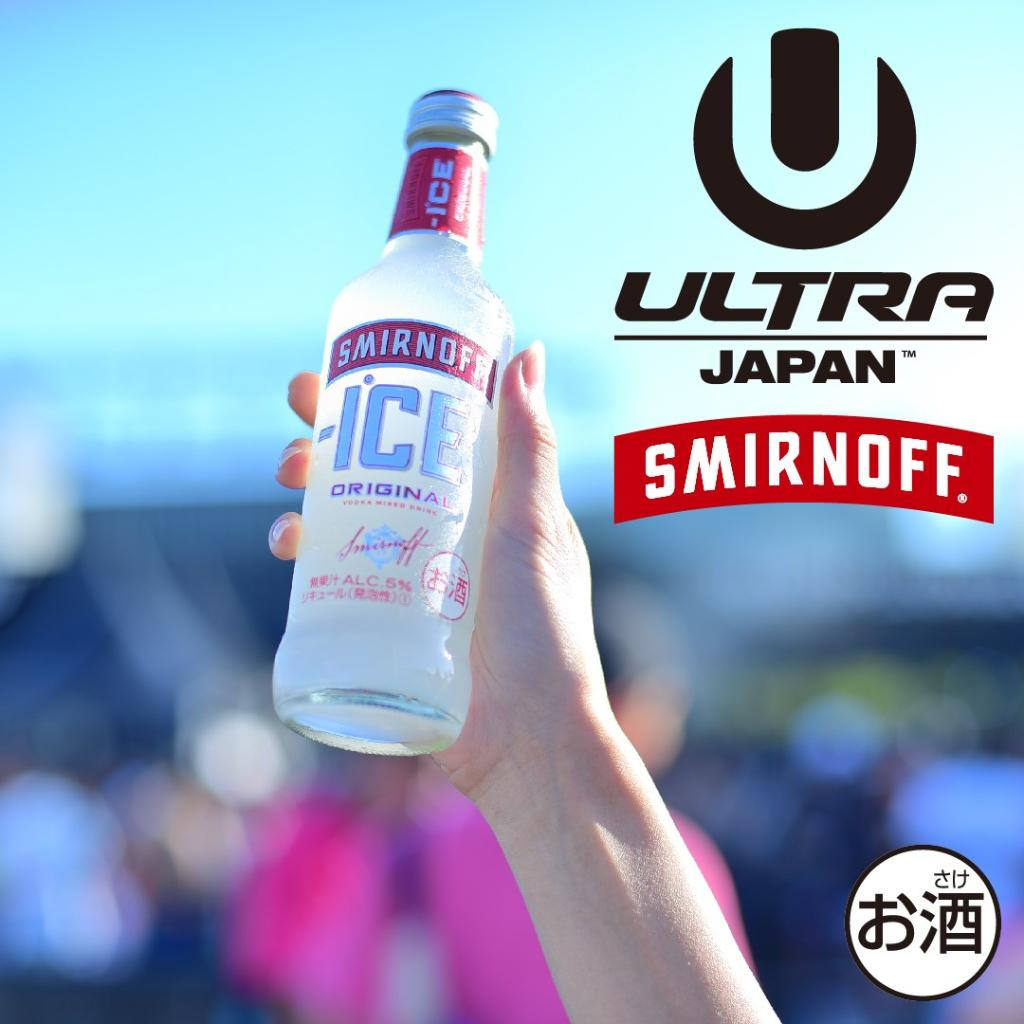Smirnoff: (254, 69, 549, 776)
